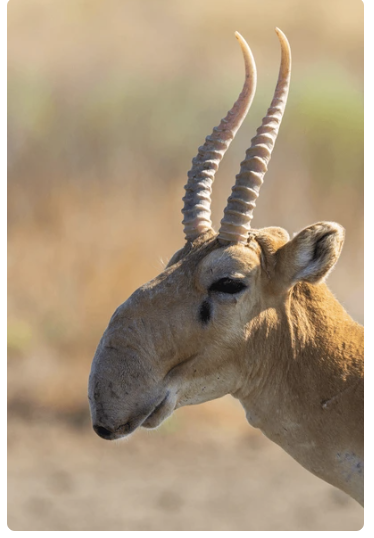saiga: (77, 30, 374, 530)
